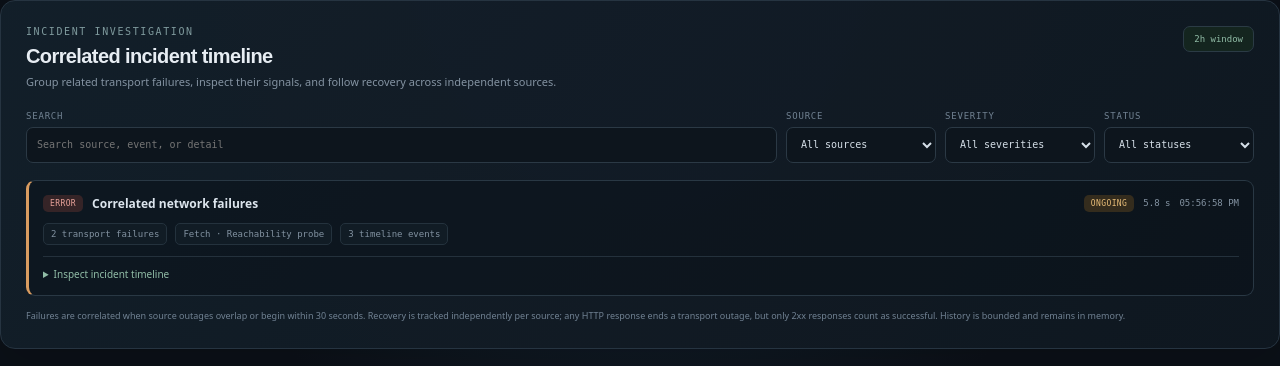
Test: IncidentTimeline › filters incidents by source and status
Select "Fetch" in the dropdown named "Incident source filter" at (861, 145), box [786, 127, 936, 163]
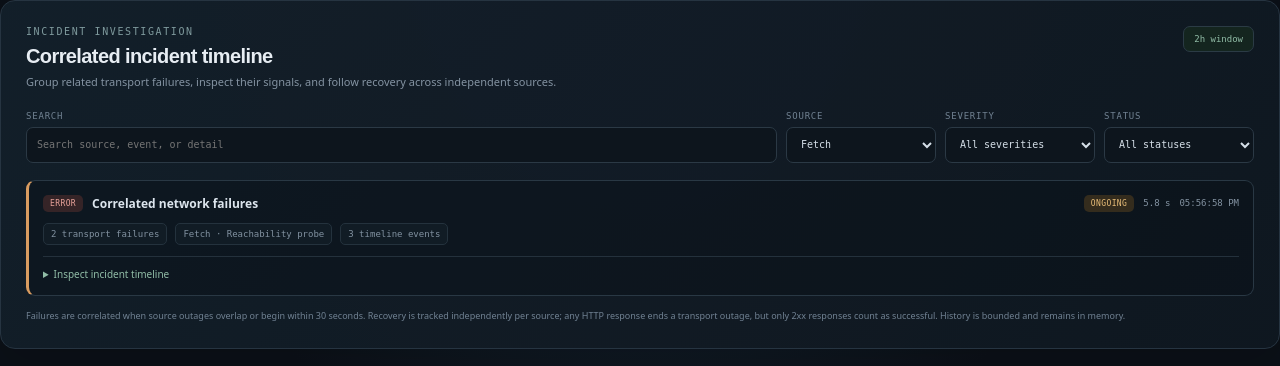
Expected: the text "Correlated network failures" is shown, [92, 195, 258, 212]
Select "Recovered" in the dropdown named "Incident status filter" at (1179, 145), box [1104, 127, 1254, 163]
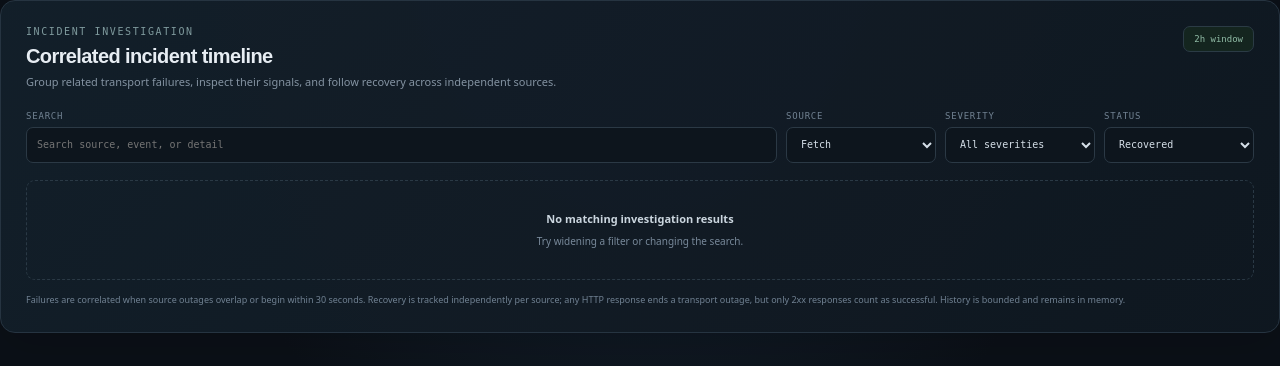
Now the text "No matching investigation results" is shown, box [546, 210, 734, 227]
